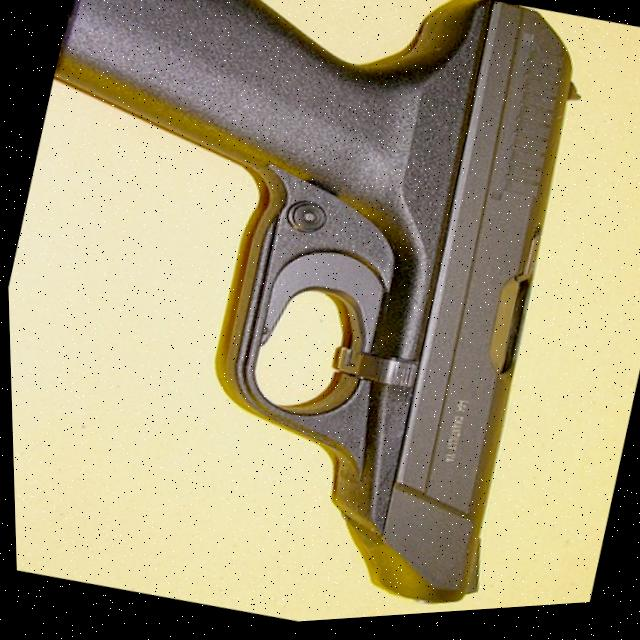pistol: (0, 0, 617, 640)
